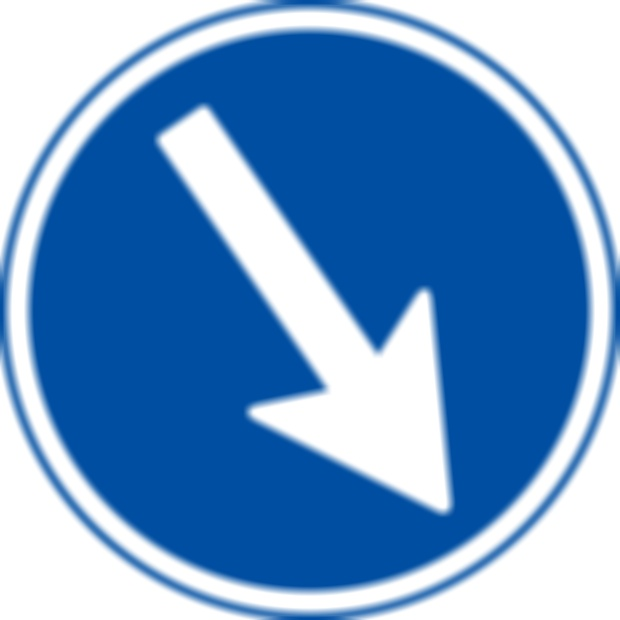Direction_sign: (6, 5, 616, 617)
